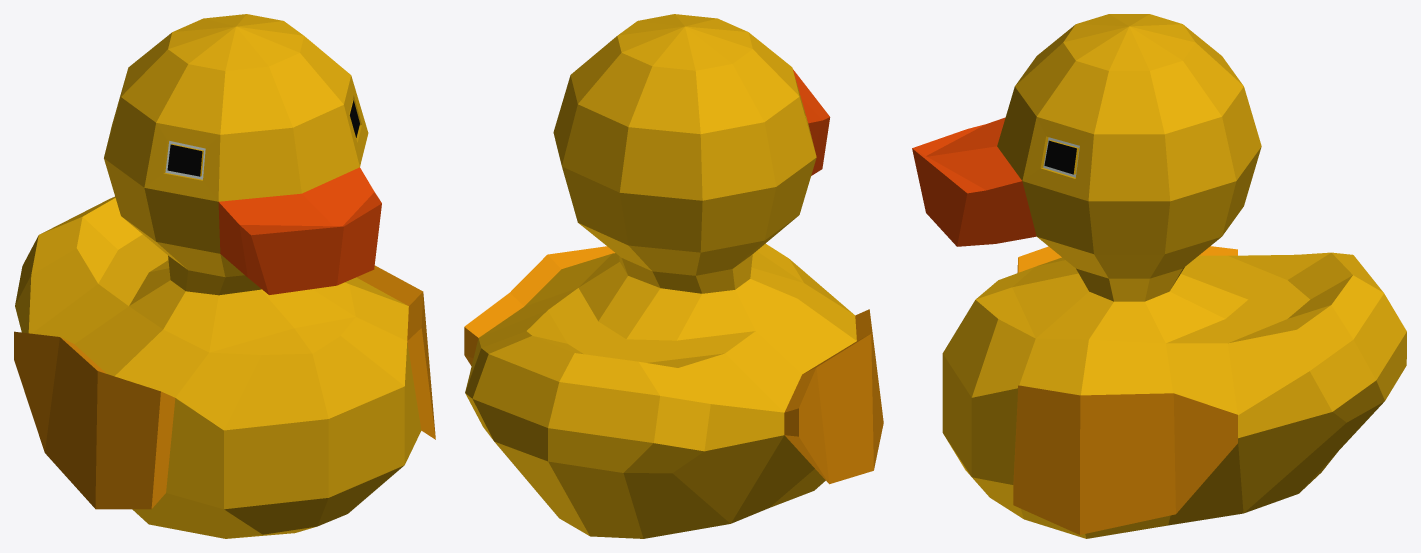
File: updatedDuck.fbx
The picture shows the model from 3 angles, left to right: view 1: azimuth 30°, elevation 25°; view 2: azimuth 150°, elevation 25°; view 3: azimuth 270°, elevation 25°; orthographic projection.
Visible parts, largest first — view 1: Sphere; view 2: Sphere; view 3: Sphere.
Part boxes in pixels (left/top/right/bottom): Sphere: left=14, top=14, right=435, bottom=538; Sphere: left=464, top=14, right=883, bottom=538; Sphere: left=912, top=14, right=1406, bottom=538.
Bounding box in the file's own units: 3.24 × 4.35 × 4.1.
